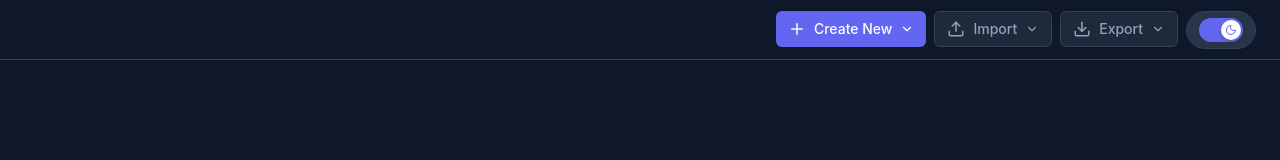
it: HeaderBar › Export dropdown › should open Export dropdown when clicked
Click the button "Export" at (1119, 28), box [1060,10,1178,46]
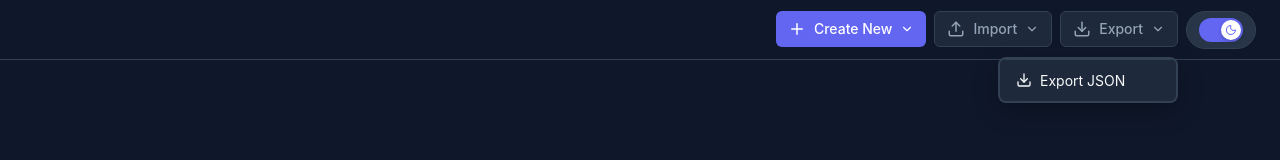
Expected: the button "Export JSON" is shown, [1000,58,1176,100]
